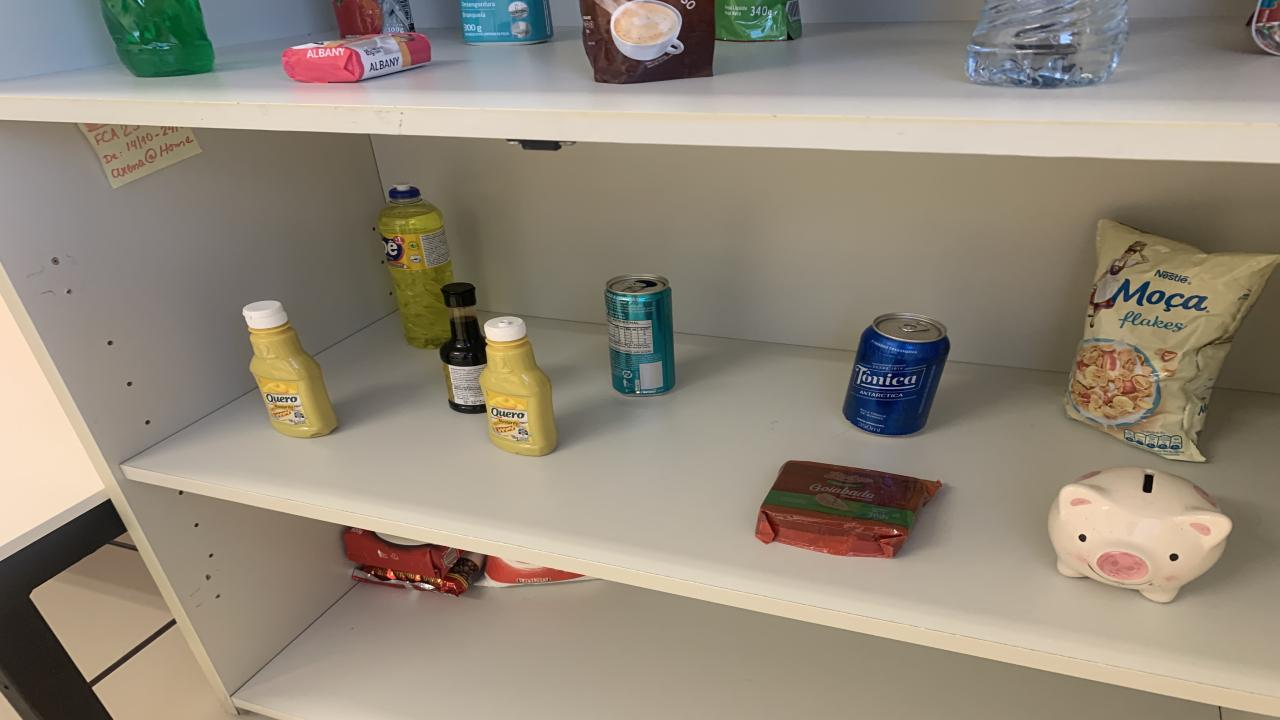Cleaner-Cleanup_Items: (460, 0, 552, 45)
Coffee-Pantry_Items: (580, 0, 715, 84)
Detergent-Cleanup_Items: (378, 184, 452, 349), (100, 0, 215, 77)
English_Sauce-Pantry_Items: (440, 283, 488, 412)
Flakes-Snacks: (1065, 219, 1280, 461)
Guava-Snacks: (755, 461, 942, 559)
Mustard-Pantry_Items: (242, 300, 338, 437), (480, 317, 558, 456)
Pig_Safe-Miscellaneous: (1048, 467, 1232, 602)
Soap-Cleanup_Items: (282, 32, 430, 82)
Tea-Drinks: (605, 274, 675, 396)
Tomato_Sauce-Pantry_Items: (715, 0, 802, 41), (332, 0, 415, 38)
Tonic-Drinks: (842, 313, 950, 435)
Tuna_Can-Pantry_Items: (1245, 0, 1280, 54)
Water_Bottle-Drinks: (965, 0, 1128, 88)
